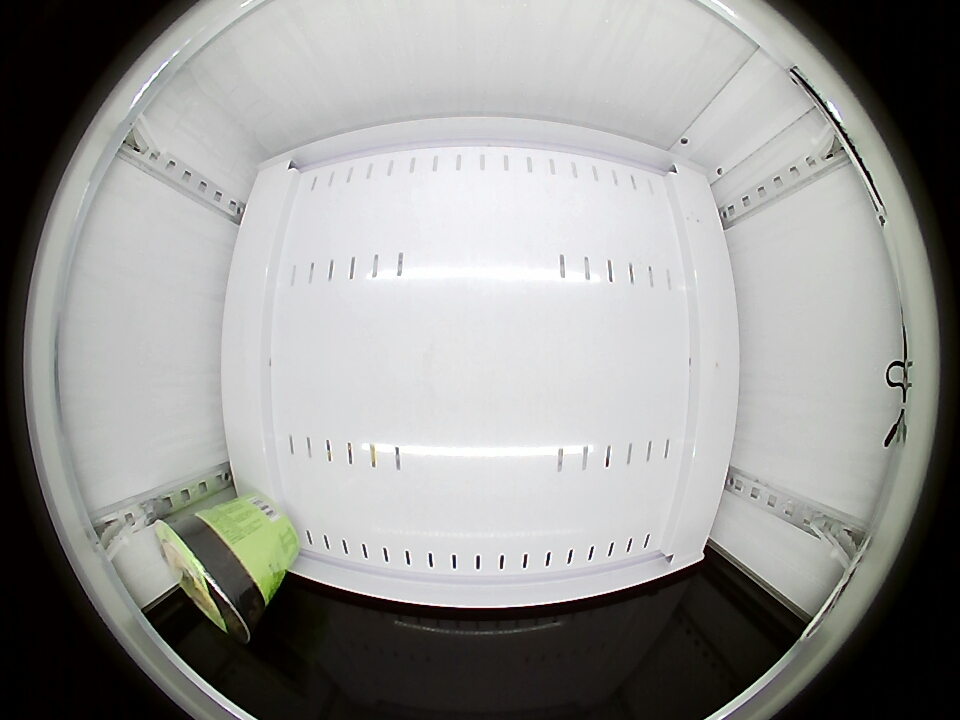tangdaren: (153, 511, 267, 643)
